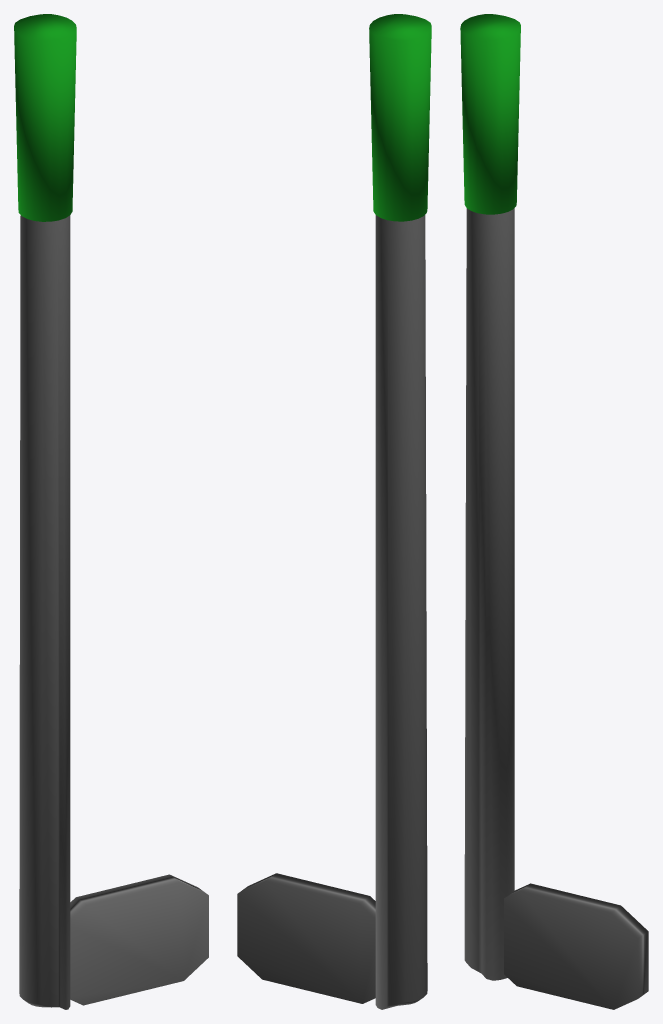
File: golfkølle.fbx
The picture shows the model from 3 angles, left to right: view 1: azimuth 30°, elevation 25°; view 2: azimuth 150°, elevation 25°; view 3: azimuth 330°, elevation 25°; orthographic projection. The views are drawn at different scales.
Parts seen in each view (by area): view 1: stangen, Cube, håndtag; view 2: stangen, Cube, håndtag; view 3: stangen, Cube, håndtag.
Boxes of the visible parts, x1=… form: stangen: x1=19, y1=215, x2=70, y2=1009; Cube: x1=70, y1=874, x2=208, y2=1005; håndtag: x1=14, y1=14, x2=76, y2=221; stangen: x1=375, y1=215, x2=427, y2=1009; Cube: x1=237, y1=873, x2=375, y2=1003; håndtag: x1=369, y1=14, x2=431, y2=221; stangen: x1=464, y1=208, x2=514, y2=980; Cube: x1=504, y1=883, x2=648, y2=1009; håndtag: x1=460, y1=14, x2=520, y2=214.
Bounding box in the file's own units: 17.06 × 86.51 × 4.88.
